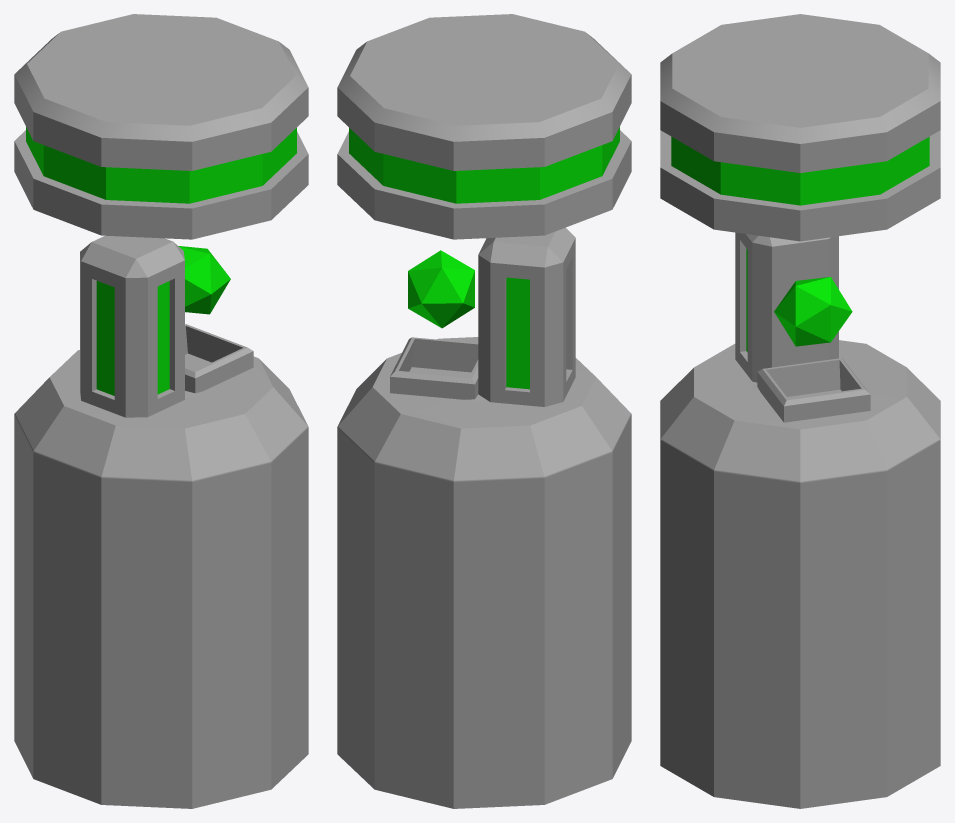
The model's file is Battery Charger.fbx.
The picture shows the model from 3 angles, left to right: view 1: azimuth 30°, elevation 25°; view 2: azimuth 150°, elevation 25°; view 3: azimuth 270°, elevation 25°; orthographic projection.
Parts seen in each view (by area): view 1: pCylinder1, pPlatonic1; view 2: pCylinder1, pPlatonic1; view 3: pCylinder1, pPlatonic1.
Part boxes in pixels (x1,y1,x2,y2): pCylinder1: [14, 14, 308, 808]; pPlatonic1: [178, 246, 230, 314]; pCylinder1: [337, 14, 631, 808]; pPlatonic1: [408, 250, 474, 328]; pCylinder1: [660, 14, 940, 808]; pPlatonic1: [774, 277, 852, 346].
Size of the model in its own units: 2 by 5.06 by 1.9.
